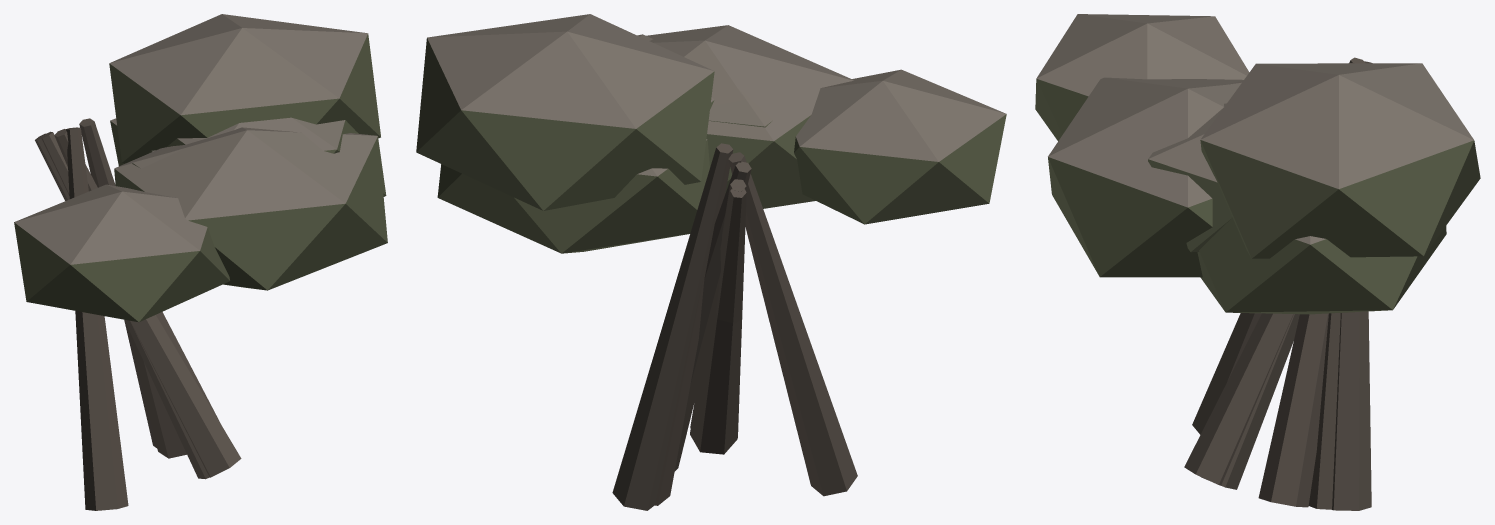
The model's file is ash-shrub.glb.
3 renders of one model, left to right at view 1: azimuth 30°, elevation 25°; view 2: azimuth 150°, elevation 25°; view 3: azimuth 270°, elevation 25°, orthographic. The views are drawn at different scales.
Visible parts, largest first — view 1: ash-shrub; view 2: ash-shrub; view 3: ash-shrub.
Part boxes in pixels (<box>): ash-shrub: <box>14,14,387,510</box>; ash-shrub: <box>416,14,1006,510</box>; ash-shrub: <box>1035,14,1480,510</box>.
Bounding box in the file's own units: 0.7906 × 0.722 × 0.6139.
